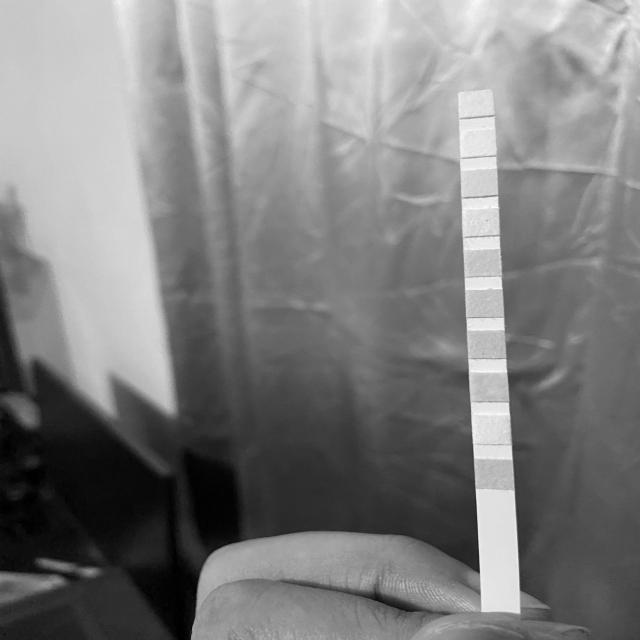Bilirubin: (475, 416, 510, 444)
Blood: (467, 290, 504, 316)
Glucose: (477, 459, 512, 489)
Ketone: (472, 373, 507, 401)
Leukocytes: (459, 92, 493, 116)
Nitrite: (460, 132, 495, 156)
Protein: (463, 210, 499, 235)
SpGravity: (469, 331, 504, 359)
Urobilinogen: (462, 172, 498, 195)
background: (0, 0, 640, 640)
pH: (465, 250, 501, 276)
strip: (460, 89, 520, 606)
